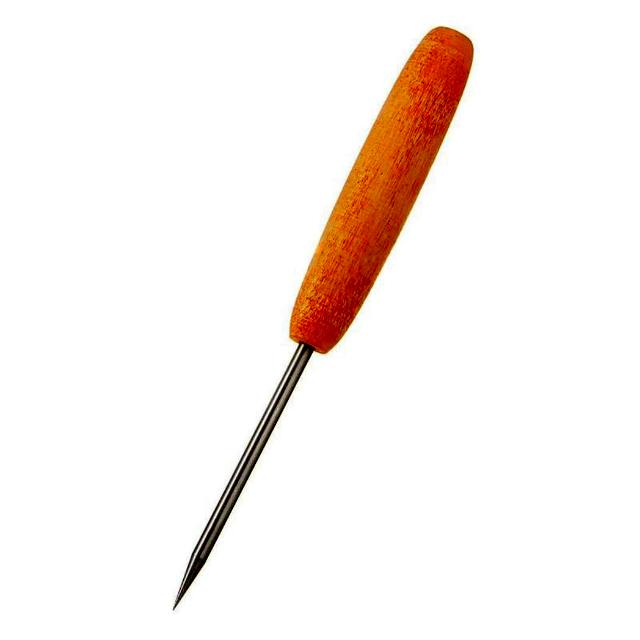ice pick: (171, 24, 477, 612)
